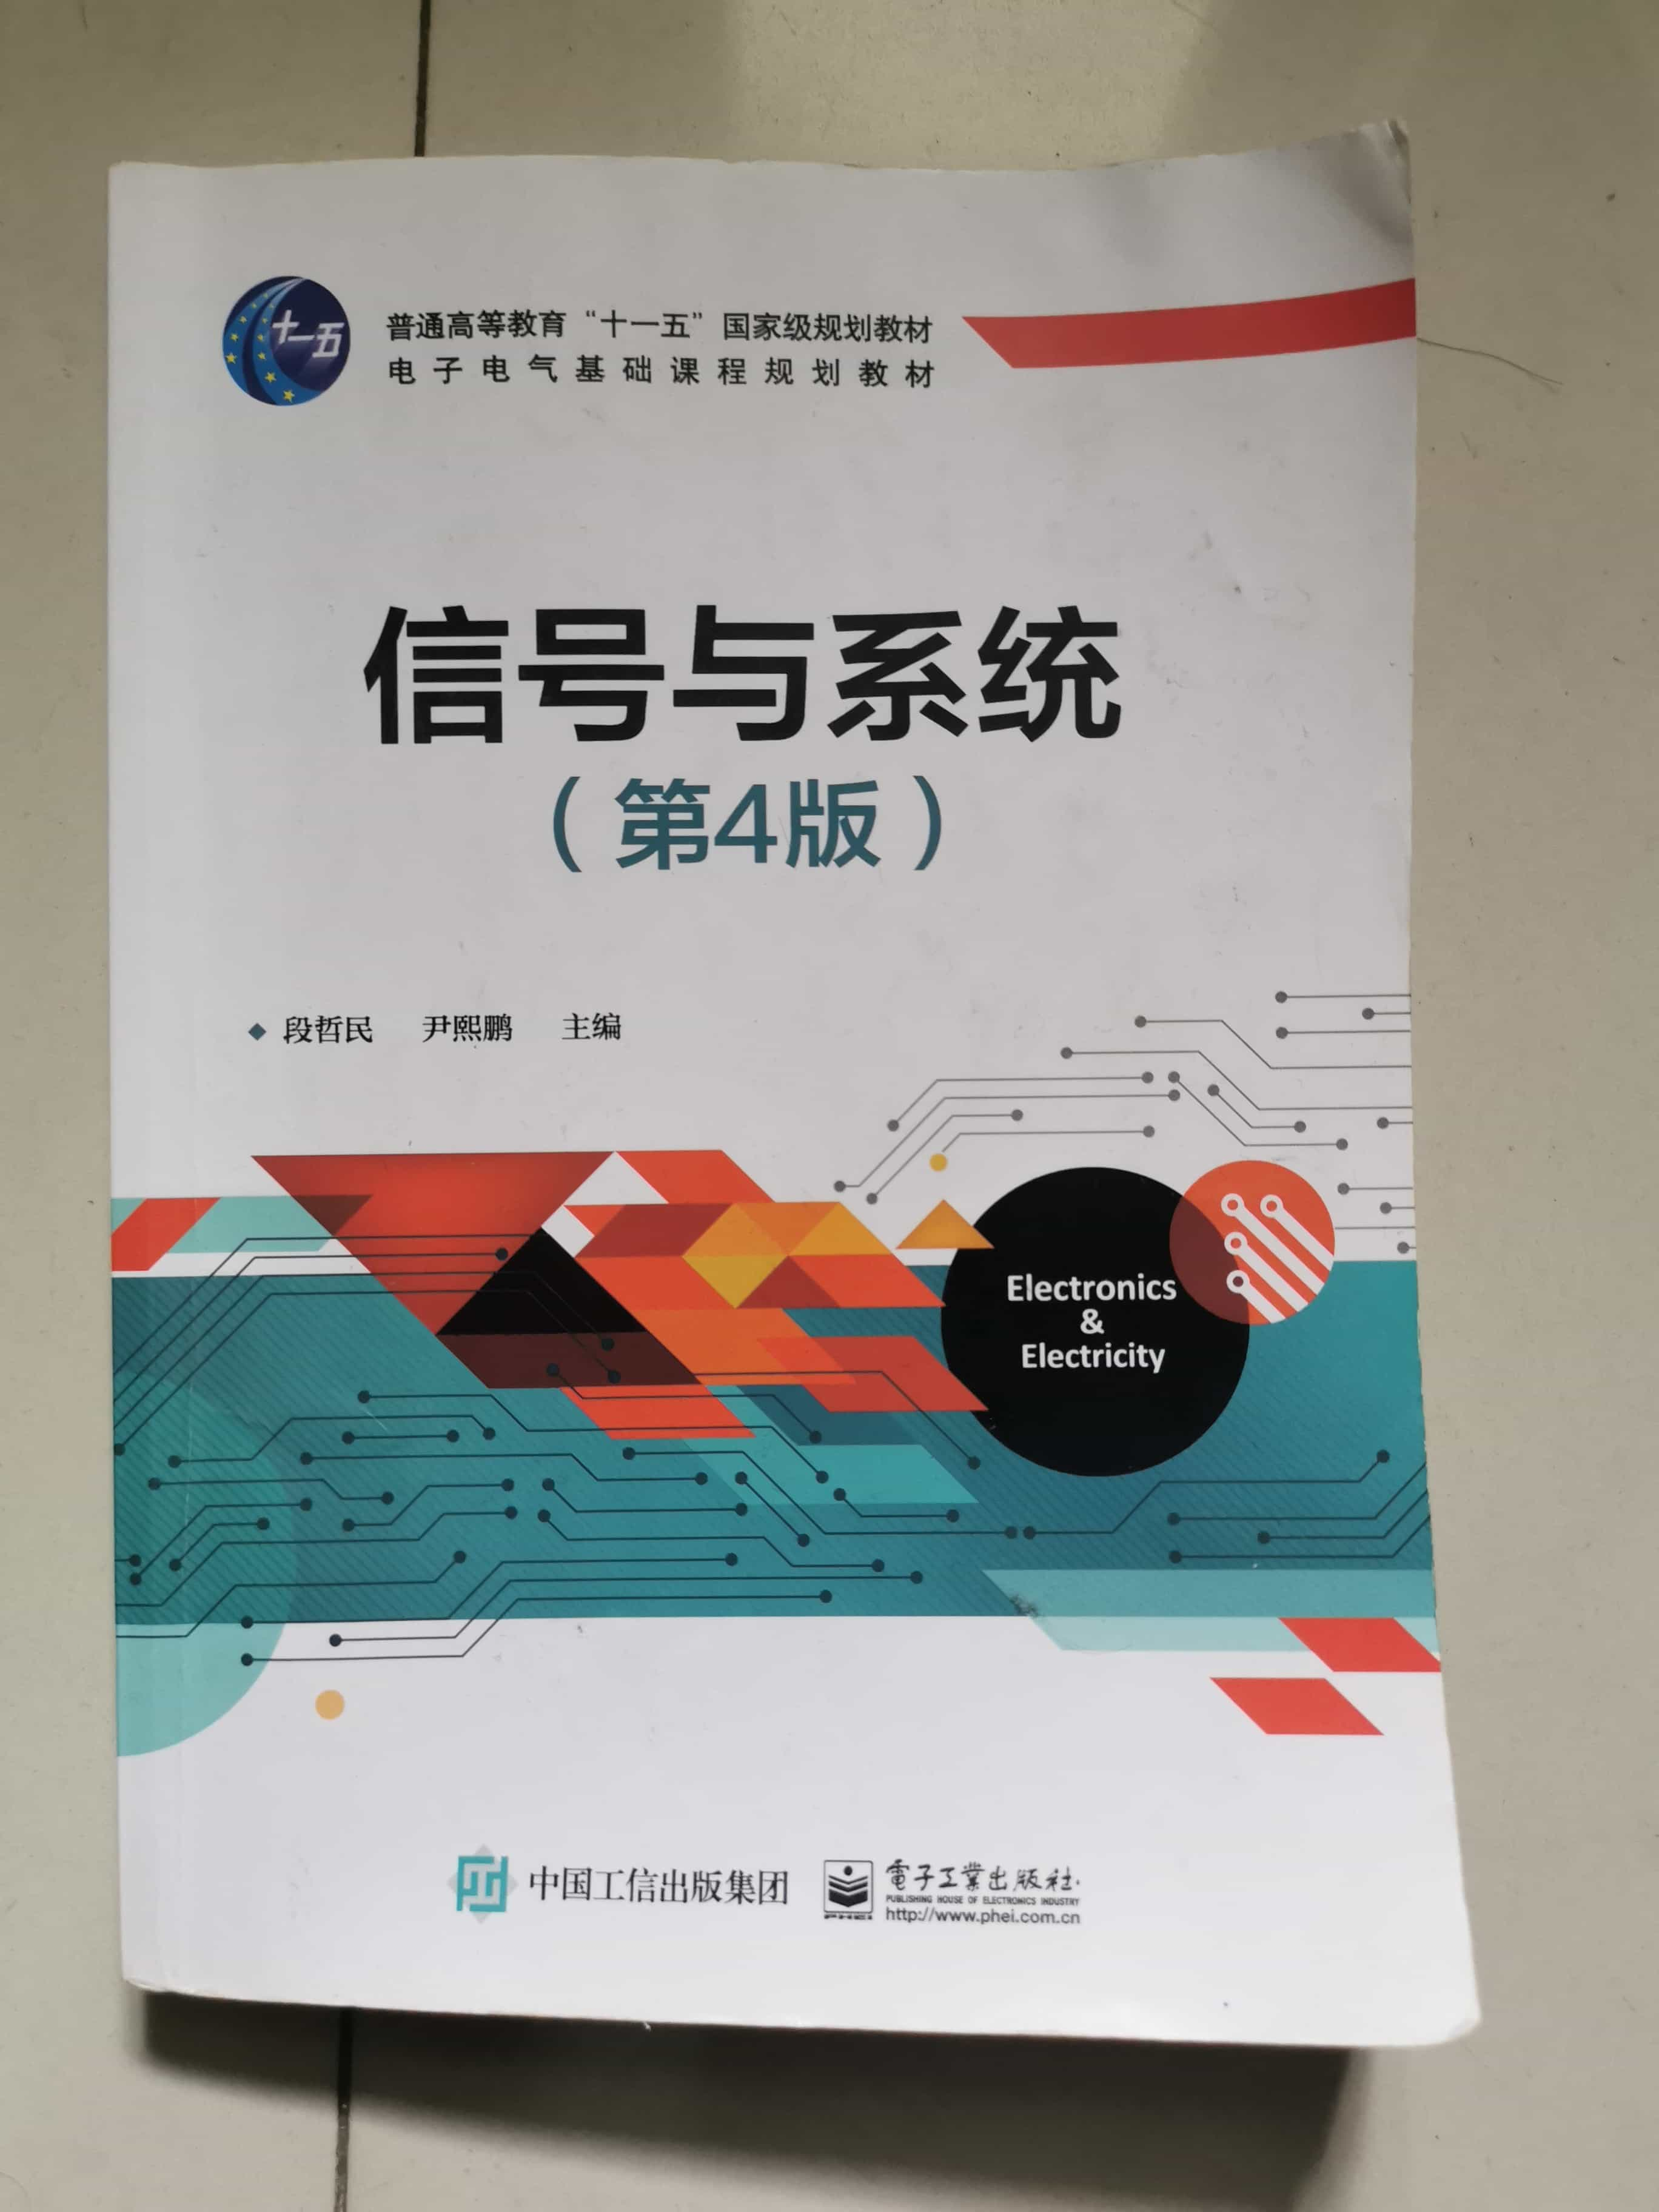book: (71, 110, 1507, 2081)
